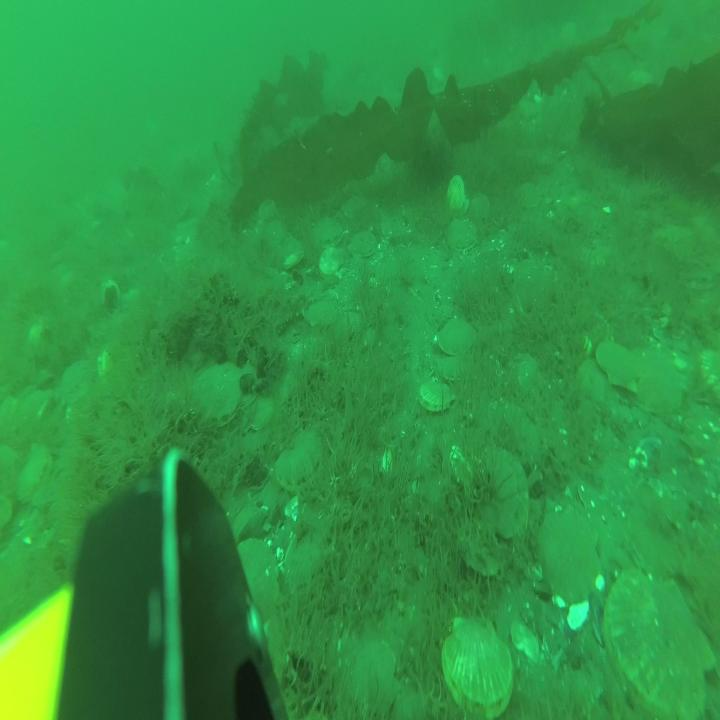holothurian: (270, 304, 300, 336)
scallop: (605, 570, 717, 720), (441, 624, 511, 720), (538, 510, 602, 602), (474, 443, 531, 544), (338, 624, 395, 713), (274, 506, 324, 582), (192, 359, 243, 433), (632, 347, 686, 416), (237, 541, 279, 626), (275, 435, 322, 491), (596, 339, 643, 393), (514, 259, 551, 308), (577, 360, 615, 406), (18, 446, 50, 496), (438, 312, 476, 354), (60, 359, 94, 404), (421, 375, 451, 422), (443, 216, 478, 256), (302, 295, 337, 331), (250, 393, 273, 438), (434, 353, 464, 387), (318, 241, 344, 277), (350, 233, 378, 264), (446, 173, 466, 214), (517, 178, 541, 211), (314, 220, 340, 250)
